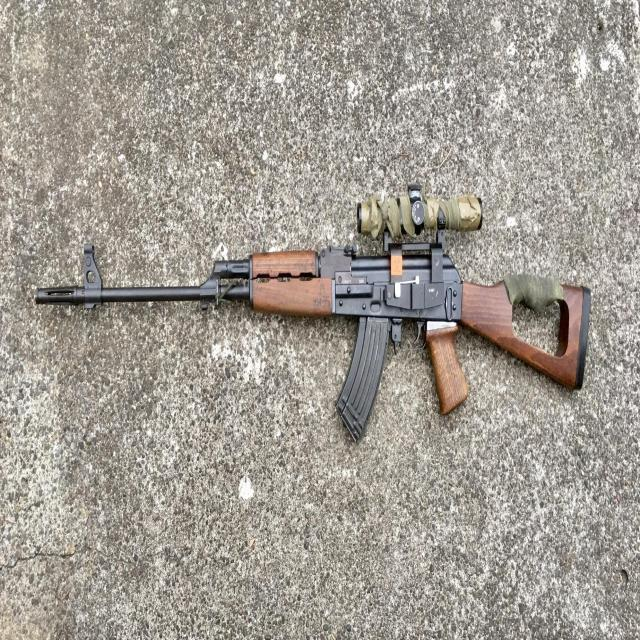Rifle: (33, 189, 593, 447)
